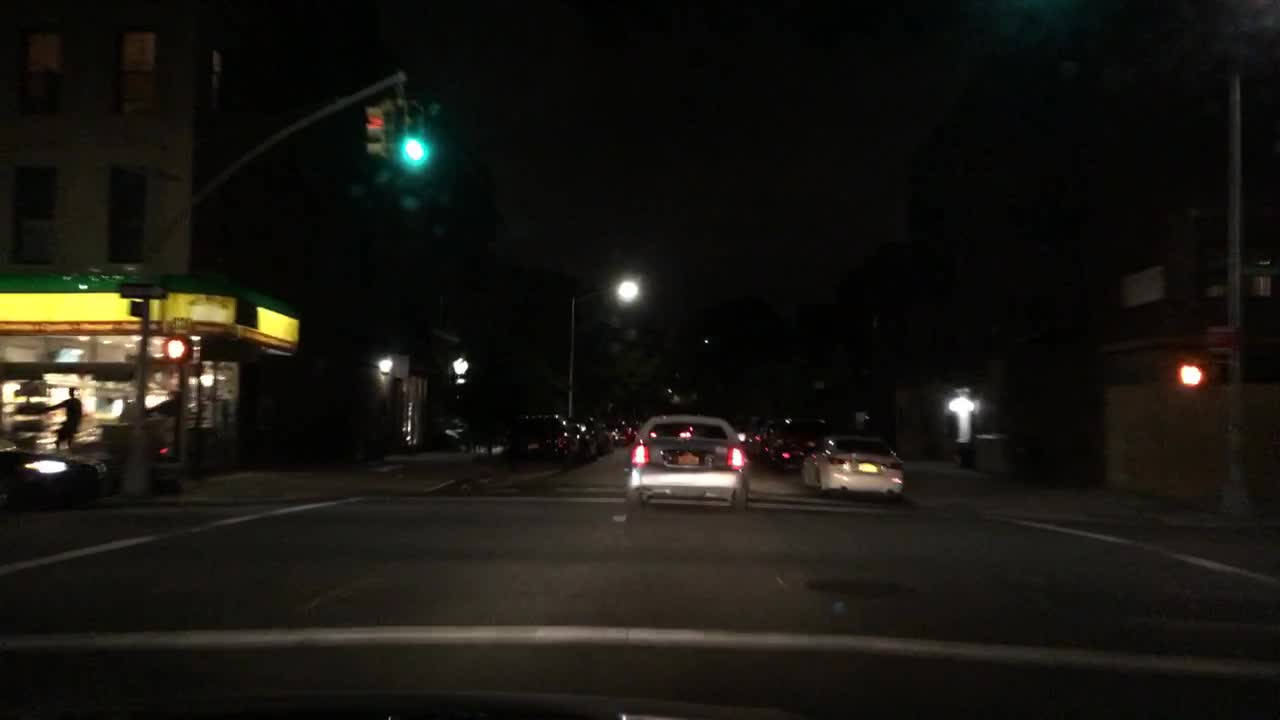car: (616, 411, 747, 518), (799, 434, 909, 502), (498, 413, 578, 470), (770, 418, 835, 474), (569, 417, 599, 466), (747, 418, 779, 460), (594, 419, 621, 455), (619, 419, 638, 447)
person: (40, 384, 86, 451)
traffic light: (363, 100, 394, 168), (401, 100, 426, 179), (1169, 360, 1214, 392), (158, 332, 193, 367)
traffic sign: (1120, 266, 1165, 305), (1205, 322, 1232, 360), (119, 282, 164, 298), (123, 300, 142, 319)
